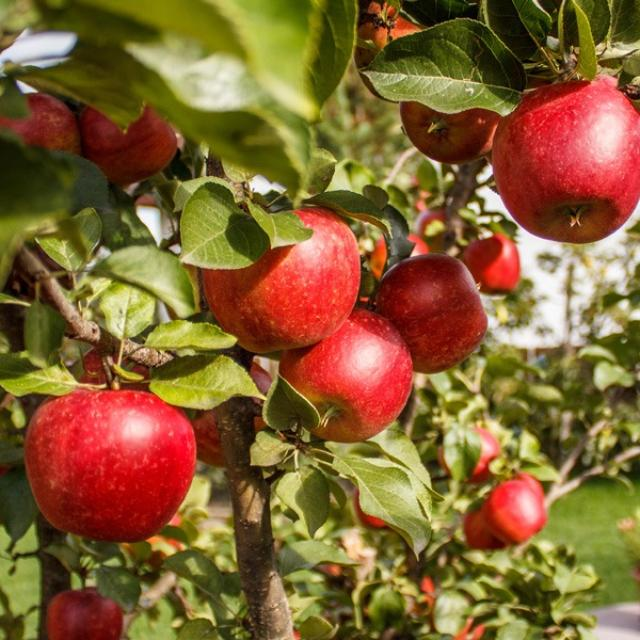Apple: (24, 389, 196, 542), (492, 75, 640, 243), (202, 208, 360, 352), (279, 309, 412, 442), (376, 254, 488, 373), (79, 105, 176, 186), (399, 102, 501, 163), (0, 94, 80, 154), (482, 474, 548, 544), (46, 588, 122, 640), (462, 234, 520, 293)
